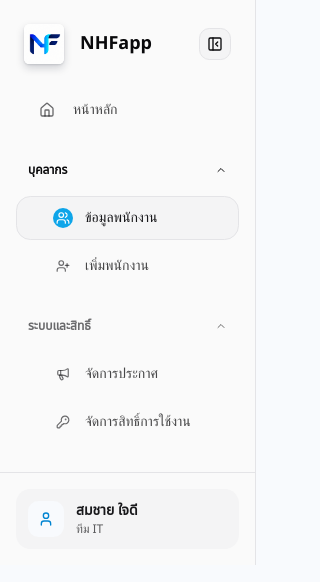
it: DashboardSidebar › marks the current menu and exposes expandable menu groups
Check: the navigation bar named "เมนูหลัก" is shown, box [0,88,255,472]
Click the button "บุคลากร".
click(128, 170)  # box [8,148,247,192]
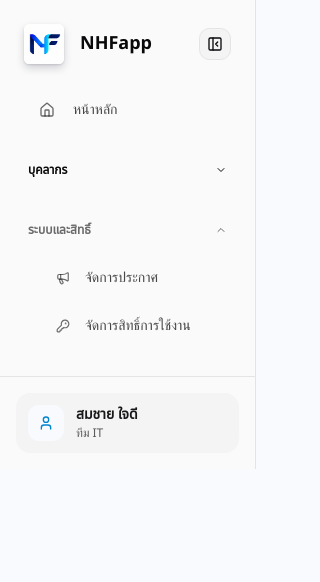
Check: the button "ข้อมูลพนักงาน" is gone
